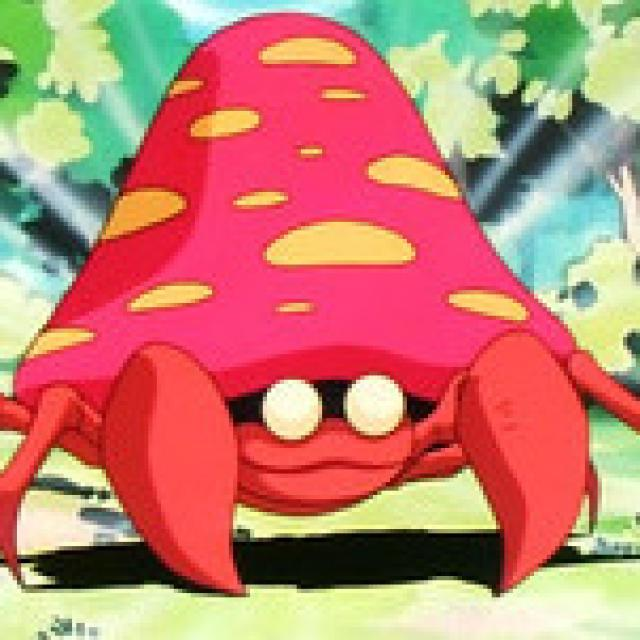Parasect: (29, 21, 560, 585)
